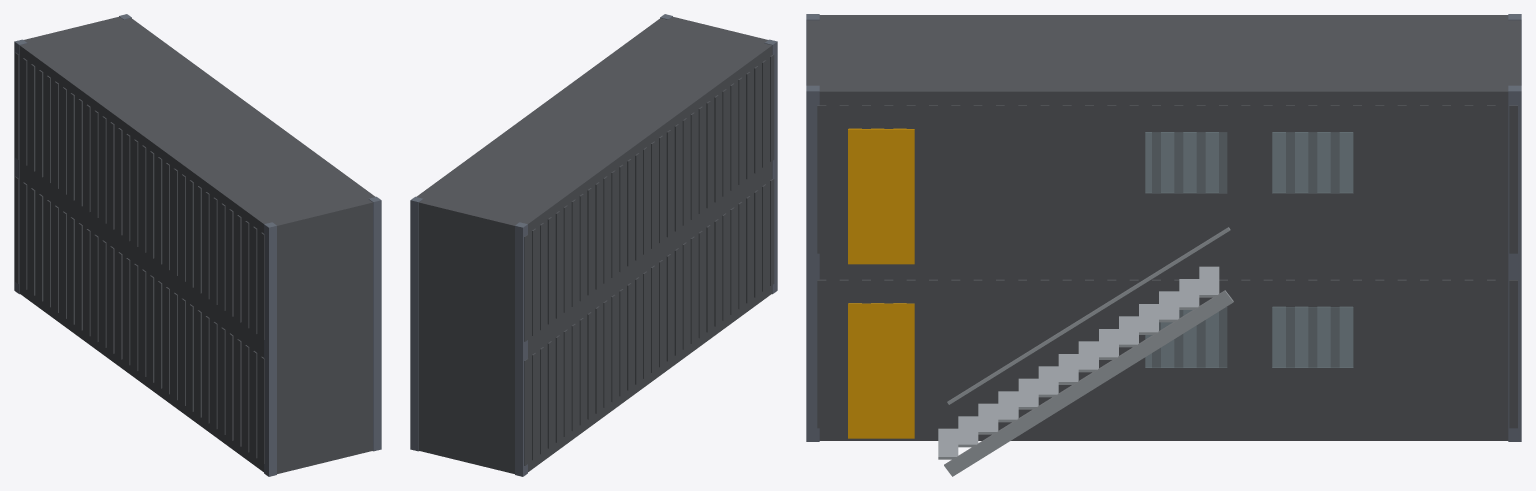
File: plant.cabin.double_stack.glb
The picture shows the model from 3 angles, left to right: view 1: azimuth 30°, elevation 25°; view 2: azimuth 150°, elevation 25°; view 3: azimuth 270°, elevation 25°; orthographic projection. The views are drawn at different scales.
Visible parts, largest first — view 1: main__plastic_grey, main__steel_painted; view 2: main__plastic_grey, main__steel_painted; view 3: main__plastic_grey, main__plant_yellow, main__glass, main__steel_galvanised, main__steel_painted.
Part boxes in pixels (left/top/right/bottom): main__plastic_grey: left=15, top=17, right=375, bottom=473; main__steel_painted: left=14, top=14, right=381, bottom=476; main__plastic_grey: left=416, top=17, right=774, bottom=473; main__steel_painted: left=410, top=14, right=777, bottom=476; main__plastic_grey: left=807, top=15, right=1520, bottom=440; main__plant_yellow: left=848, top=128, right=914, bottom=438; main__glass: left=1145, top=132, right=1353, bottom=367; main__steel_galvanised: left=938, top=227, right=1233, bottom=476; main__steel_painted: left=806, top=14, right=1521, bottom=441.
Size of the model in its own units: 3.44 by 5.27 by 9.62.
